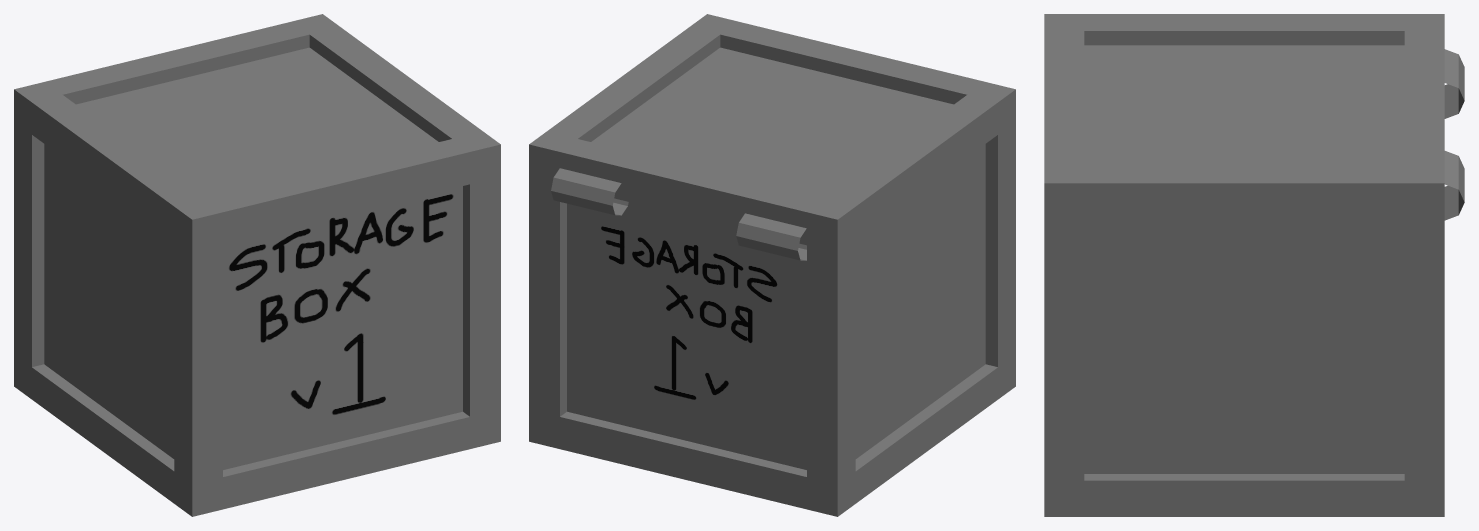
File: furni_storage_box_0.glb
3 views of the same model, side by side, from view 1: azimuth 30°, elevation 25°; view 2: azimuth 150°, elevation 25°; view 3: azimuth 270°, elevation 25° (orthographic). The views are drawn at different scales.
Parts seen in each view (by area): view 1: storage_box; view 2: storage_box; view 3: storage_box.
Boxes of the visible parts, bbox=[...] form: storage_box: bbox=[14, 14, 500, 516]; storage_box: bbox=[529, 14, 1015, 516]; storage_box: bbox=[1044, 14, 1464, 516].
Size of the model in its own units: 0.5 by 0.46 by 0.525.
1 material, 1 textured.
